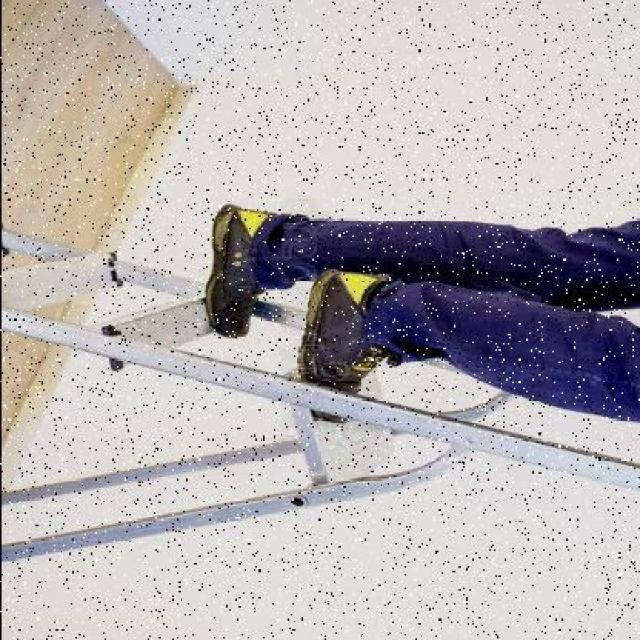shoes: (301, 272, 385, 428), (204, 208, 276, 334)
